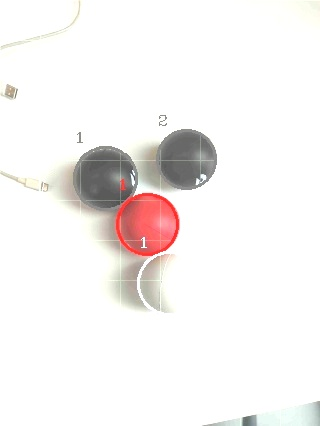Pelota blanca: (135, 252, 203, 318)
Pelota negra: (71, 145, 139, 211), (156, 126, 217, 190)
Pelota roja: (113, 190, 179, 256)
